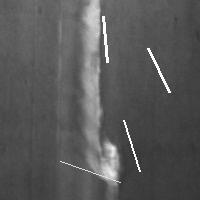scratches: (74, 1, 121, 195), (55, 156, 125, 187), (143, 43, 174, 97), (118, 115, 144, 176), (98, 11, 112, 67)
